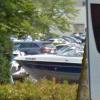Boat: (13, 35, 84, 75)
